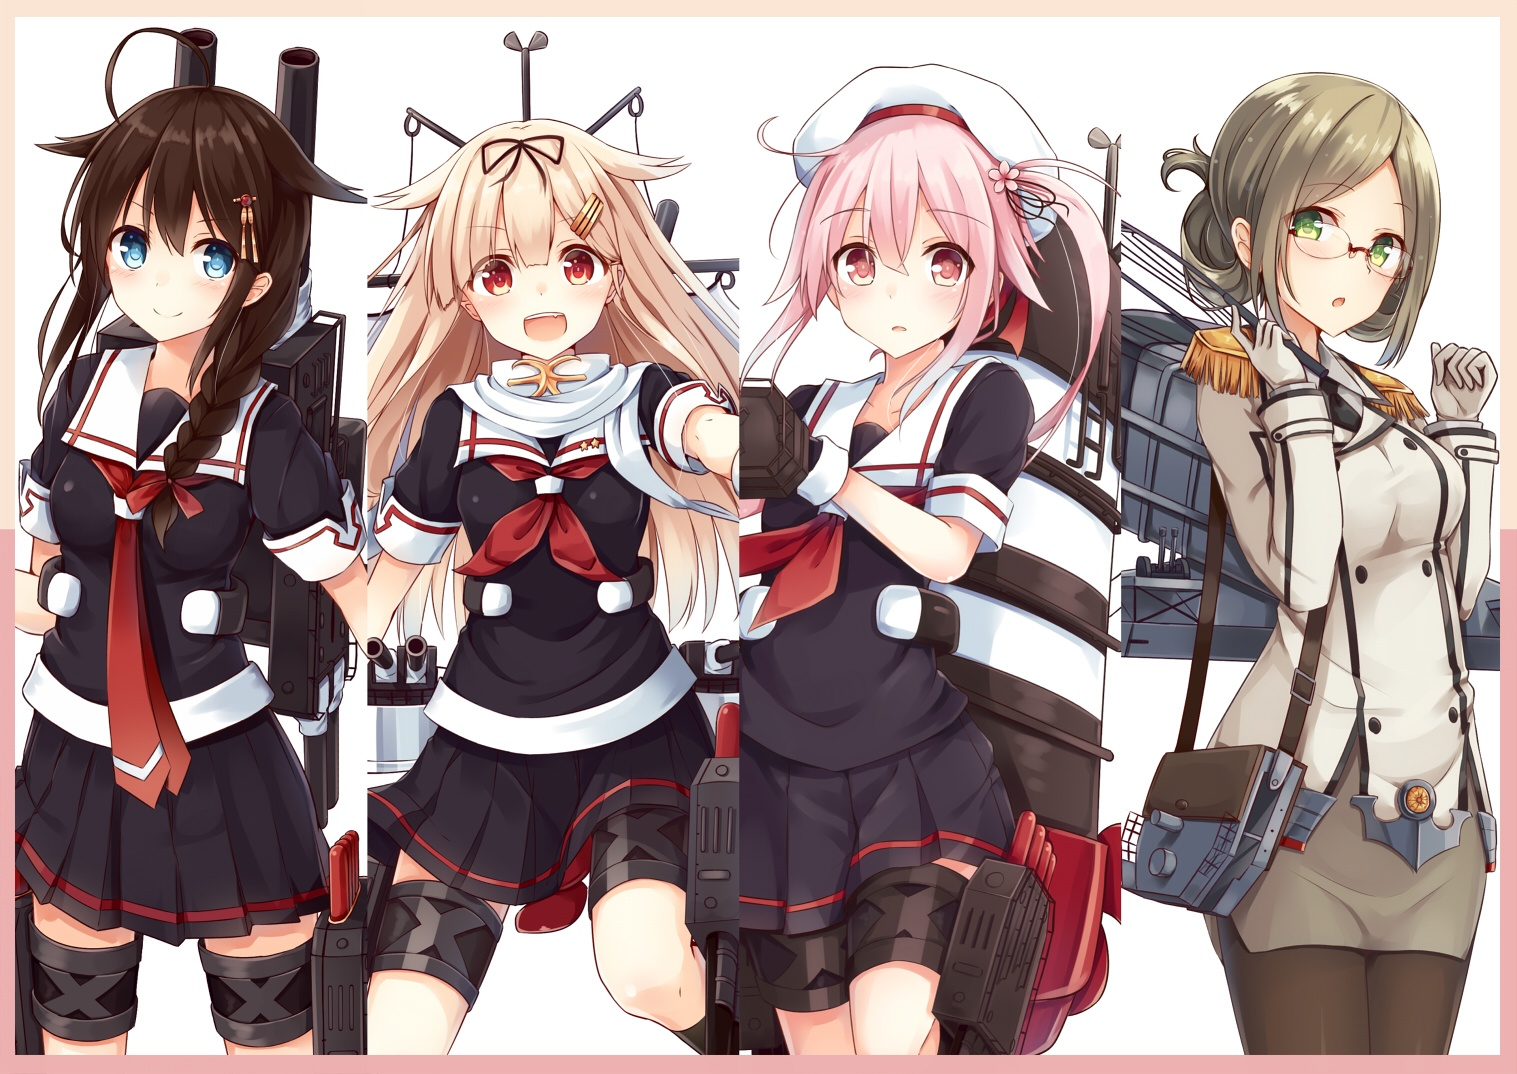纸片人正脸: (45, 64, 348, 367), (770, 77, 1076, 369), (1163, 59, 1457, 358), (394, 101, 680, 376)
